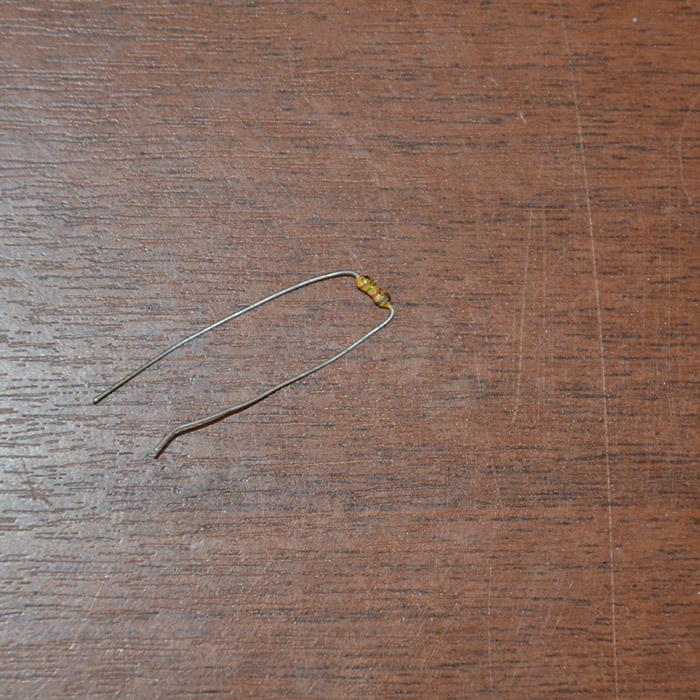resistor: (353, 269, 395, 312)
